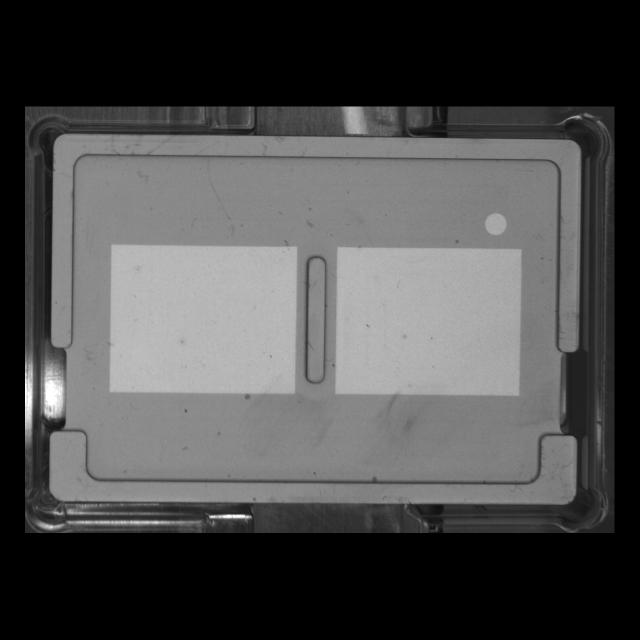door: (42, 418, 585, 519)
point: (481, 206, 512, 240)
